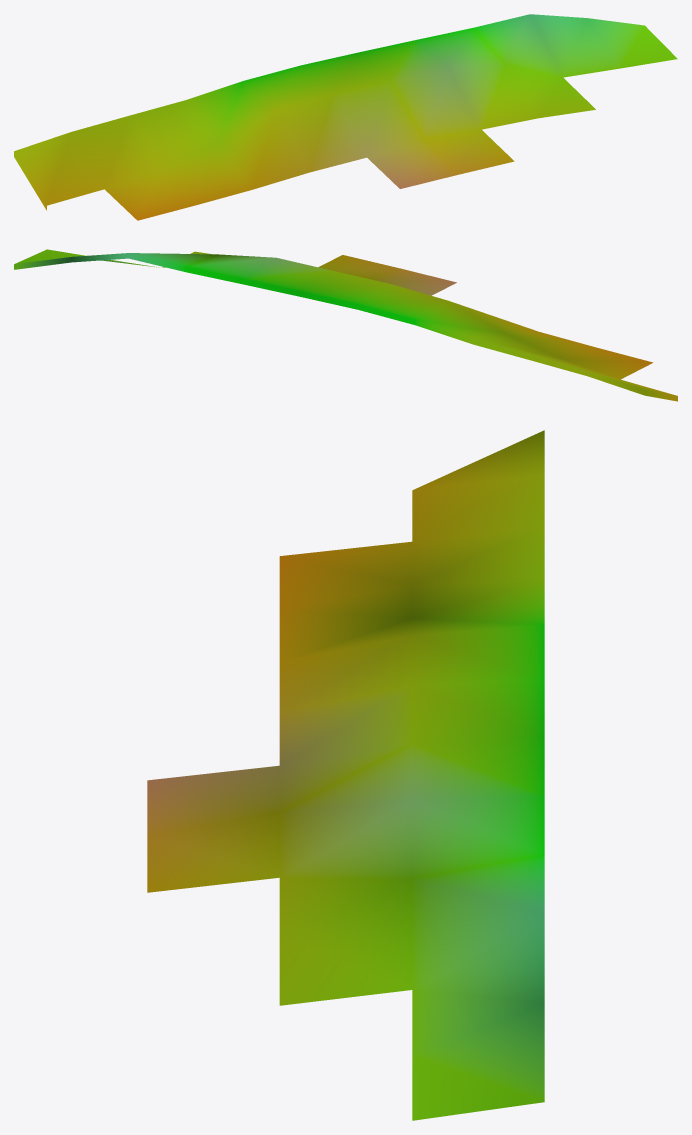
The model's file is coast_2_9.glb.
3 renders of one model, top to bottom at view 1: azimuth 30°, elevation 25°; view 2: azimuth 150°, elevation 25°; view 3: azimuth 270°, elevation 25°, orthographic. The views are drawn at different scales.
Parts seen in each view (by area): view 1: terrain; view 2: terrain; view 3: terrain.
Boxes of the visible parts, bbox=[...] form: terrain: bbox=[14, 14, 677, 220]; terrain: bbox=[14, 249, 677, 401]; terrain: bbox=[147, 430, 544, 1120].
Bounding box in the file's own units: 176 × 14.22 × 48.
